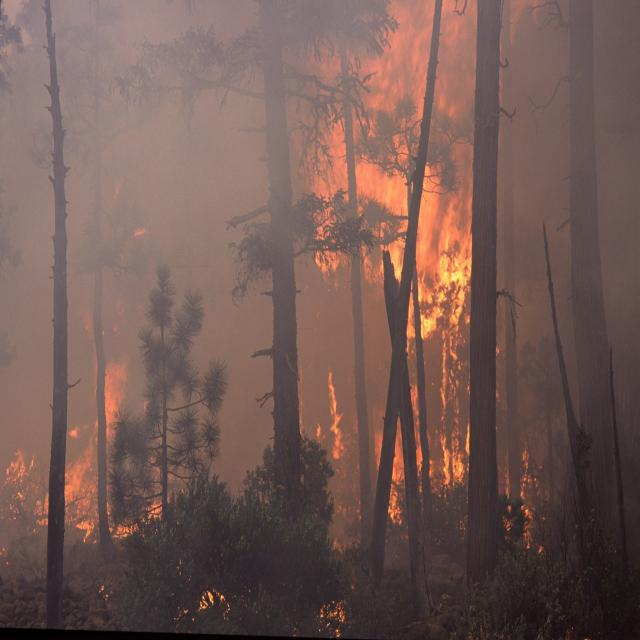Fire: (304, 0, 504, 333), (377, 335, 502, 512), (70, 311, 160, 545), (504, 441, 554, 559), (311, 367, 356, 479), (178, 573, 247, 633), (6, 432, 34, 524), (316, 587, 356, 640)
Smoke: (302, 3, 638, 470), (1, 10, 307, 471)
